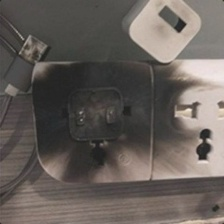three_eye_plug: (25, 54, 224, 191)
